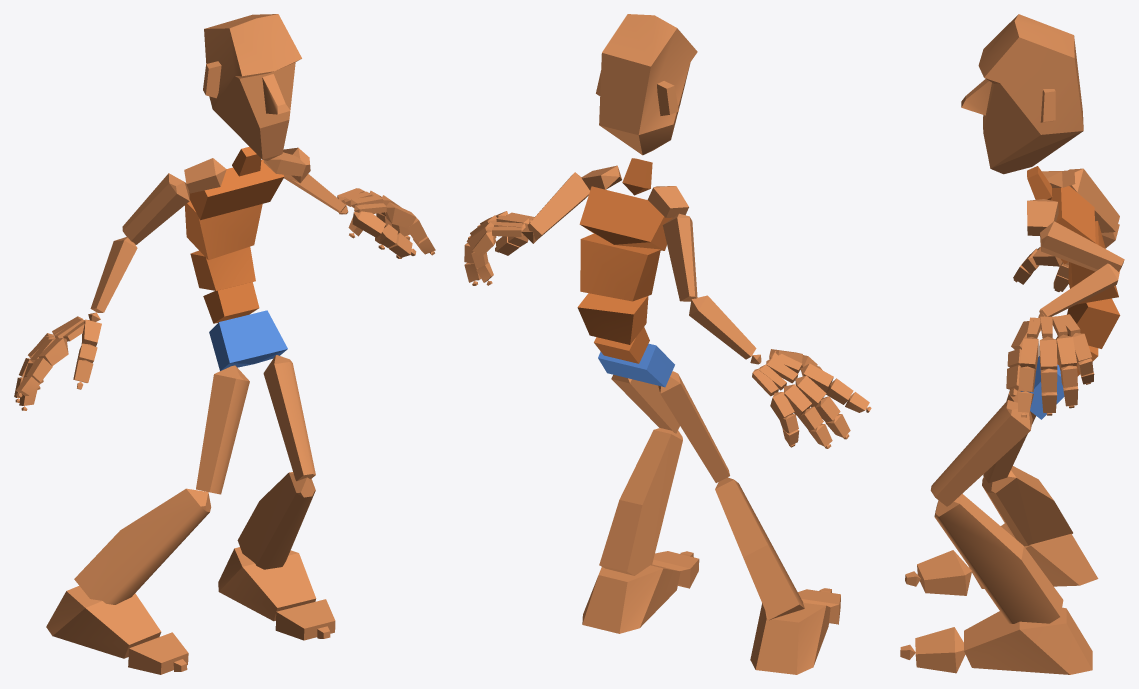
The model's file is prueba89.obj.
The picture shows the model from 3 angles, left to right: view 1: azimuth 30°, elevation 25°; view 2: azimuth 150°, elevation 25°; view 3: azimuth 270°, elevation 25°; orthographic projection. The views are drawn at different scales.
Parts seen in each view (by area): view 1: BOPED_Head, BOPED_R_leg, BOPED_R_foot, BOPED_L_leg, BOPED_R_foot01, BOPED_R_legup, BOPED_L_legup, Bone01, Bone04, Bone05, BOPED_R_arm_upper, Bone03 (+8 smaller); view 2: BOPED_Head, BOPED_L_leg, BOPED_R_leg, BOPED_R_foot01, BOPED_R_foot, Bone04, Bone05, Bone03, BOPED_R_legup, BOPED_R_arm_upper, Bone01, BOPED_R_arm_fore (+8 smaller); view 3: BOPED_Head, BOPED_L_leg, BOPED_R_foot01, BOPED_R_leg, BOPED_L_legup, BOPED_R_foot, BOPED_L_arm_upper, BOPED_R_foot_toe01, BOPED_R_foot_toe04, Bone03, Bone05, BOPED_L_arm_fore (+14 smaller).
Part boxes in pixels (left/top/right/bottom): BOPED_Head: left=203, top=14, right=301, bottom=160; BOPED_R_leg: left=74, top=488, right=211, bottom=604; BOPED_R_foot: left=46, top=586, right=161, bottom=658; BOPED_L_leg: left=237, top=472, right=315, bottom=569; BOPED_R_foot01: left=218, top=547, right=316, bottom=621; BOPED_R_legup: left=196, top=365, right=249, bottom=494; BOPED_L_legup: left=263, top=355, right=315, bottom=481; Bone01: left=209, top=310, right=287, bottom=370; Bone04: left=185, top=200, right=262, bottom=260; Bone05: left=189, top=159, right=284, bottom=220; BOPED_R_arm_upper: left=122, top=173, right=189, bottom=244; Bone03: left=190, top=246, right=255, bottom=290; BOPED_Head: left=596, top=14, right=697, bottom=155; BOPED_L_leg: left=599, top=428, right=682, bottom=575; BOPED_R_leg: left=715, top=477, right=804, bottom=620; BOPED_R_foot01: left=582, top=564, right=680, bottom=633; BOPED_R_foot: left=750, top=603, right=830, bottom=674; Bone04: left=580, top=233, right=660, bottom=301; Bone05: left=579, top=186, right=672, bottom=250; Bone03: left=577, top=293, right=648, bottom=344; BOPED_R_legup: left=658, top=371, right=729, bottom=482; BOPED_R_arm_upper: left=662, top=213, right=697, bottom=301; Bone01: left=598, top=343, right=674, bottom=387; BOPED_R_arm_fore: left=689, top=295, right=756, bottom=359; BOPED_Head: left=961, top=14, right=1083, bottom=174; BOPED_L_leg: left=934, top=494, right=1063, bottom=623; BOPED_R_foot01: left=964, top=607, right=1092, bottom=674; BOPED_R_leg: left=982, top=466, right=1072, bottom=546; BOPED_L_legup: left=930, top=400, right=1032, bottom=506; BOPED_R_foot: left=969, top=523, right=1098, bottom=588; BOPED_L_arm_upper: left=1040, top=221, right=1124, bottom=271; BOPED_R_foot_toe01: left=917, top=550, right=971, bottom=595; BOPED_R_foot_toe04: left=915, top=627, right=965, bottom=673; Bone03: left=1067, top=298, right=1120, bottom=348; Bone05: left=1051, top=186, right=1095, bottom=264; BOPED_L_arm_fore: left=1039, top=263, right=1120, bottom=316.
Bounding box in the file's own units: 130 × 179 × 57.62.
